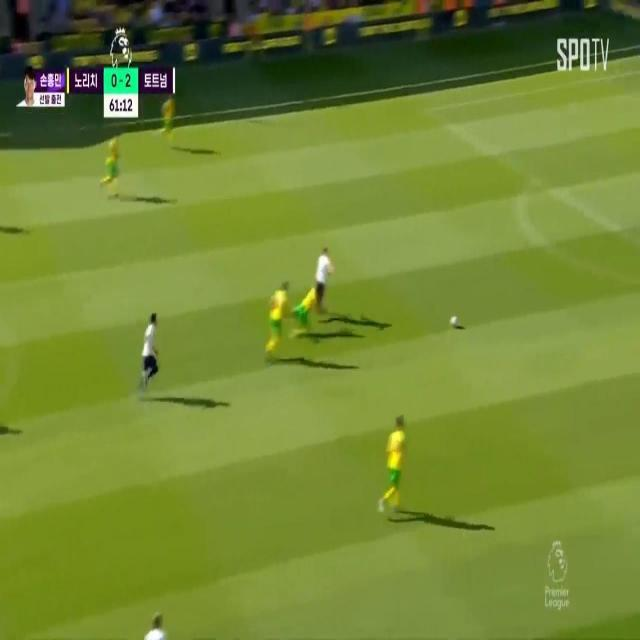ball: (450, 313, 460, 328)
player: (383, 410, 408, 523), (267, 269, 290, 362), (311, 241, 336, 316), (142, 307, 165, 385), (295, 285, 323, 327), (105, 135, 124, 190), (163, 97, 176, 140)
